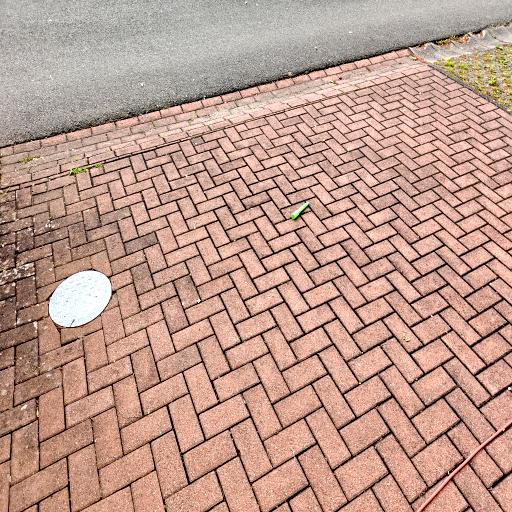Probe-Detection: (291, 202, 309, 220)
